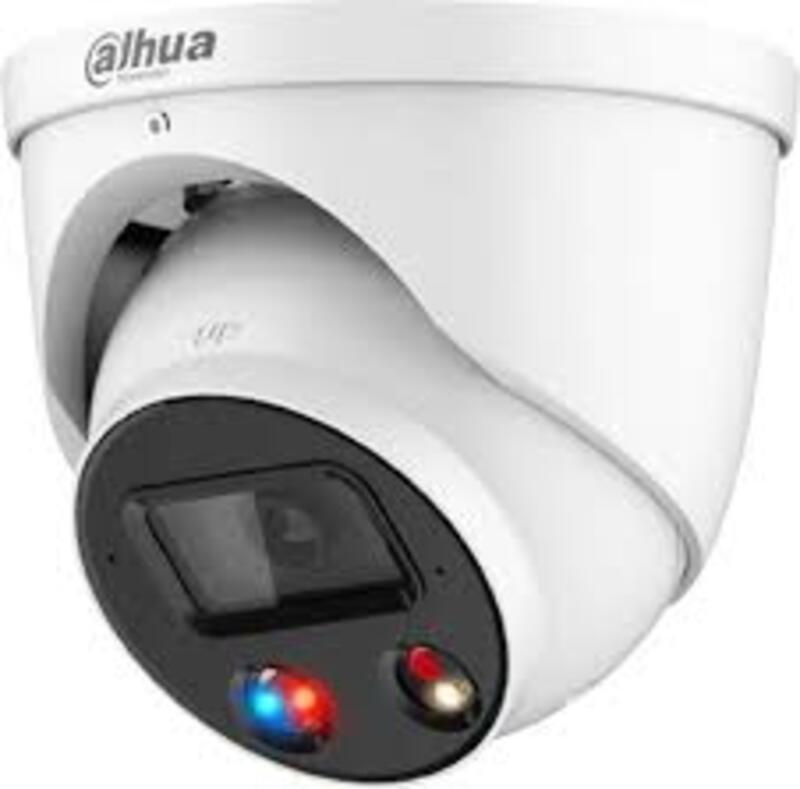turret: (0, 11, 788, 775)
